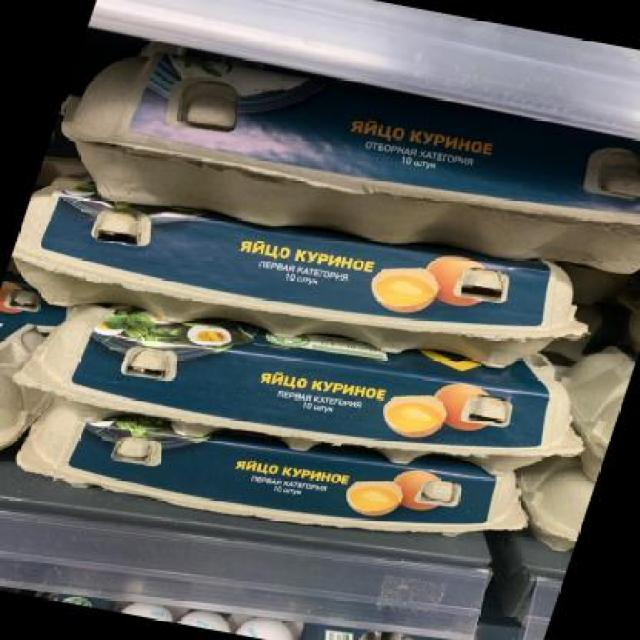Egg: (37, 27, 640, 299), (0, 168, 603, 400), (8, 276, 600, 502), (10, 384, 536, 562)
